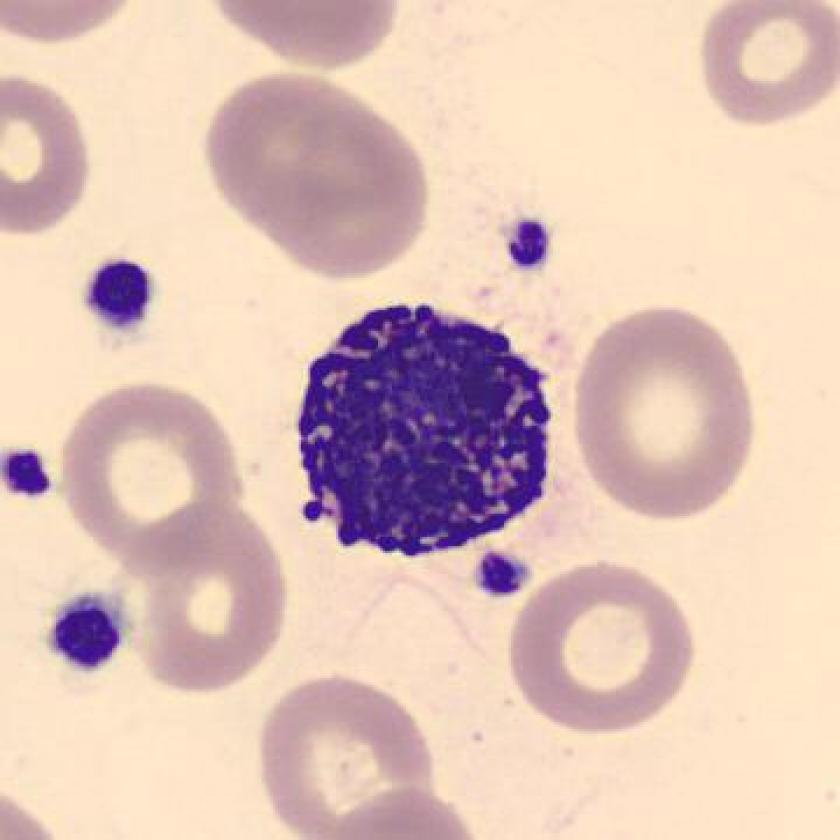basophil: (283, 299, 566, 575)
